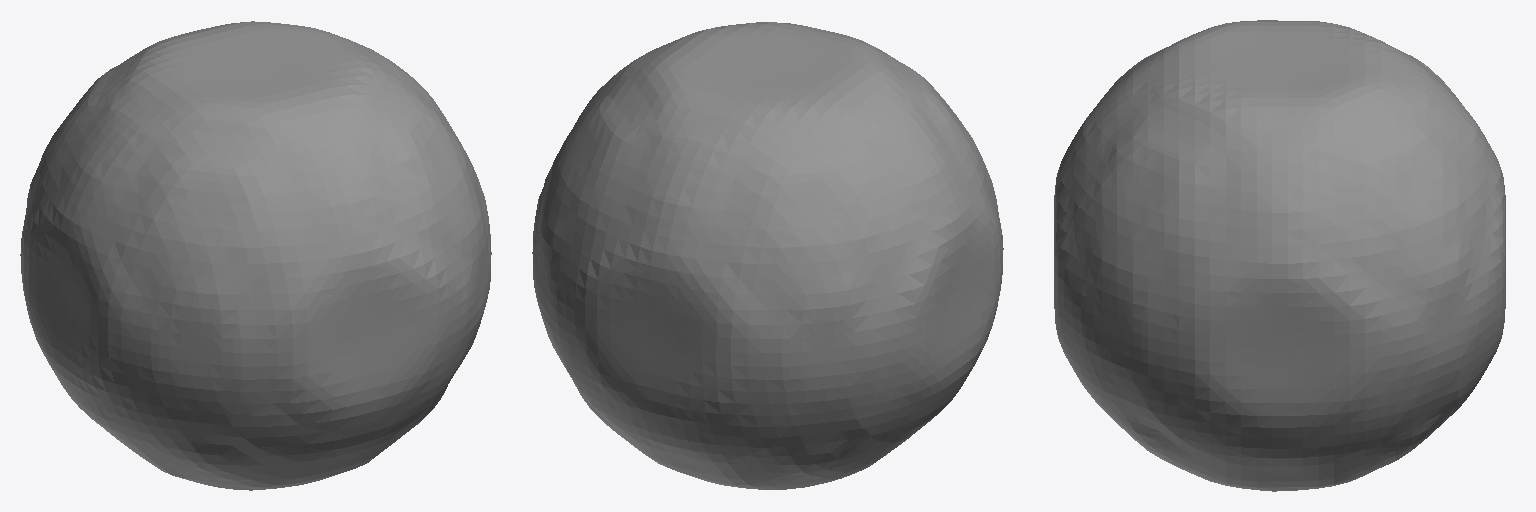
The robot description file, URDF, robot "cube.urdf":
<?xml version="0.0" ?> 
<robot name="cube.urdf"> 
<link name="legobrick"> 
<contact> 
<lateral_friction value="5.0"/> 
<rolling_friction value="0.0"/> 
<contact_cfm value="0.0"/> 
<contact_erp value="1.0"/> 
</contact> 
<inertial> 
<origin rpy="0 0 0" xyz="0.0 0.0 0.0"/> 
<mass value=".01"/> 
<inertia ixx="1" ixy="0" ixz="0" iyy="1" iyz="0" izz="1"/> 
</inertial> 
<visual> 
<origin rpy="1.570796 0 0" xyz="-0.025858884574201726 0.02585846787244325 -0.026976437049939236"/> 
<geometry> 
<mesh filename="D00_3.obj" scale="0.0006999974823715551 0.0006999974823715551 0.0006999974823715551"/> 
</geometry> 
<material name="yellow"> 
<color rgba="0.6 0.6 0.6 1"/> 
</material> 
</visual> 
<collision> 
<origin rpy="1.570796 0 0" xyz="-0.025858884574201726 0.02585846787244325 -0.026976437049939236"/> 
<geometry> 
<mesh filename="D00_3.obj" scale="0.0006999974823715551 0.0006999974823715551 0.0006999974823715551"/> 
</geometry> 
</collision> 
</link> 
</robot>

--- What the picture shows (computed from the rendered views, not written in the file) ---
The picture shows the robot from 3 angles, left to right: view 1: azimuth 30°, elevation 25°; view 2: azimuth 150°, elevation 25°; view 3: azimuth 270°, elevation 25°; orthographic projection.
Robot: cube.urdf — 1 links, 0 joints (none); root link legobrick; default pose: all joints at 0.
Links seen in each view (by area): view 1: legobrick; view 2: legobrick; view 3: legobrick.
Boxes of the visible links, <box> form: legobrick: <box>20,21,491,490</box>; legobrick: <box>532,22,1003,489</box>; legobrick: <box>1054,20,1505,491</box>.
Size in the robot's own frame: 0.056 by 0.056 by 0.056 metres.
1 mesh visuals loaded from 1 distinct referenced files (1 OBJ).
